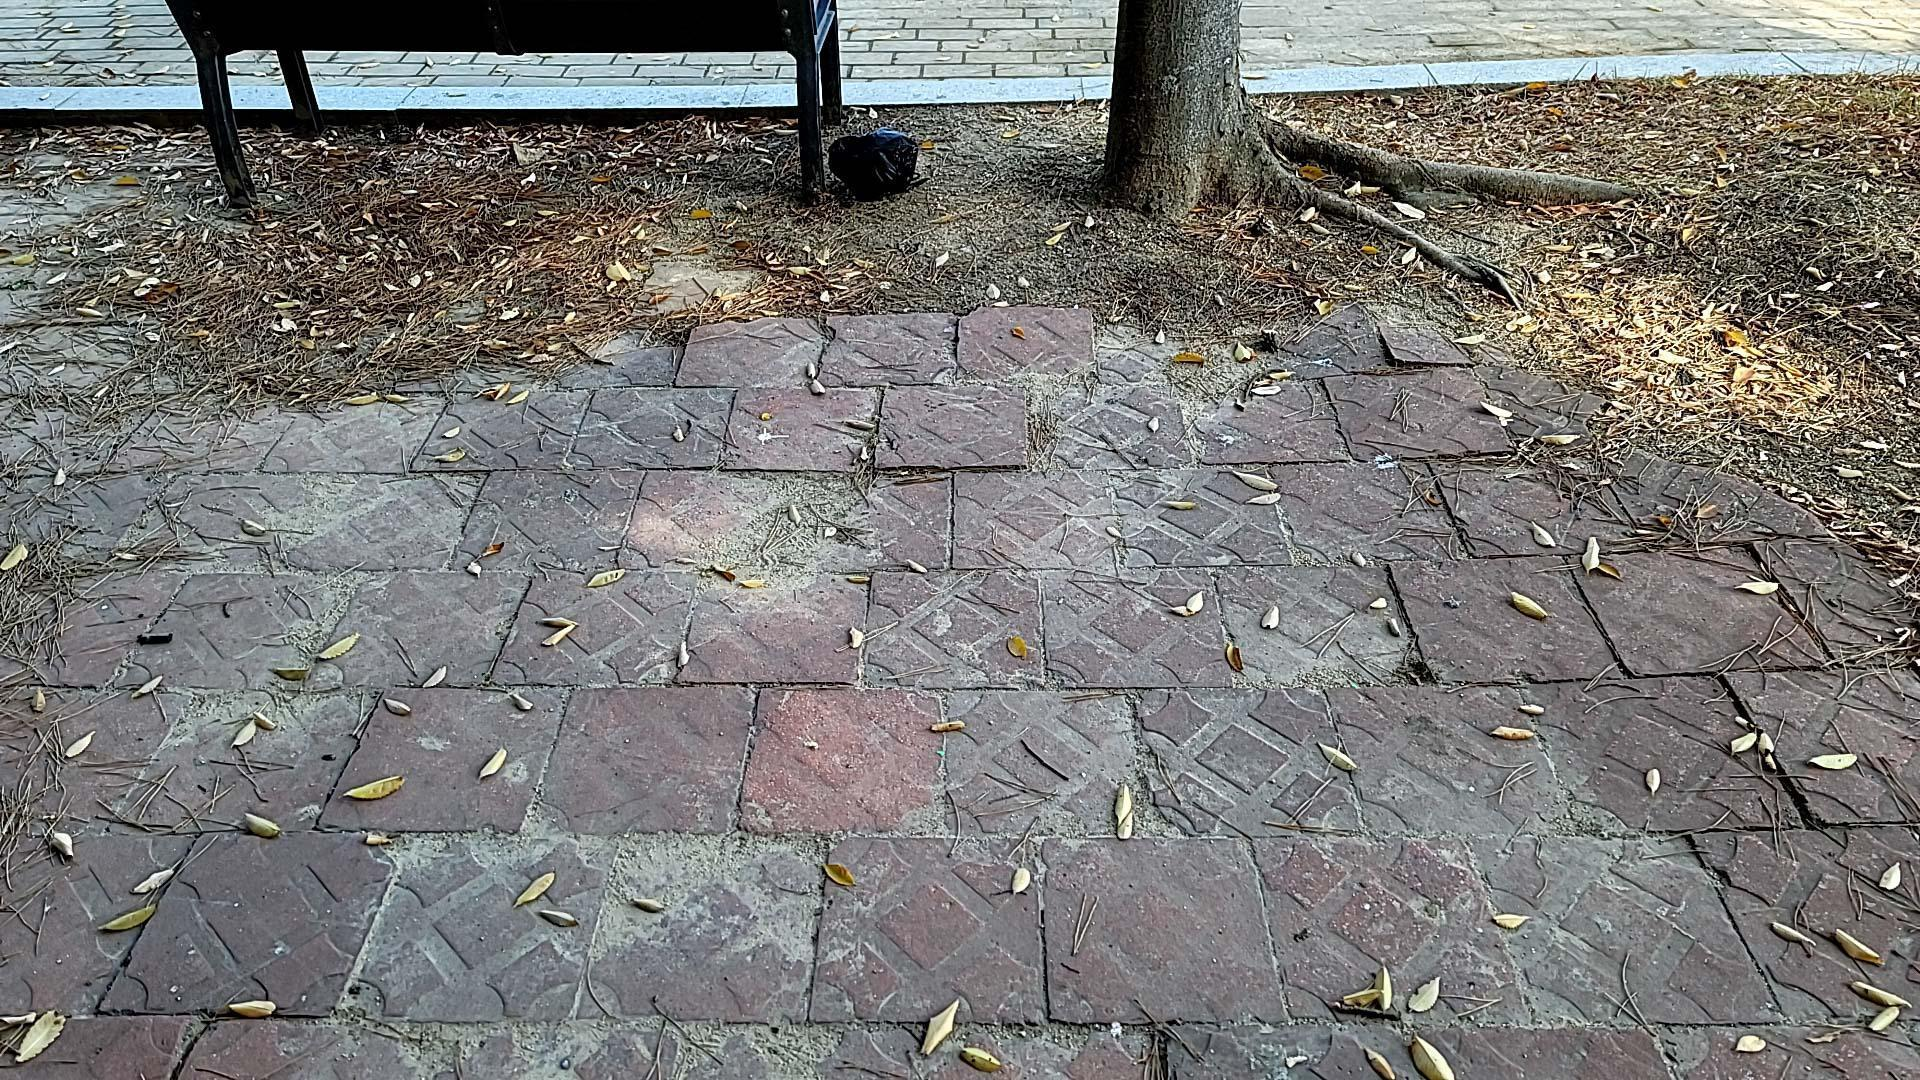black_bag: (825, 124, 920, 200)
